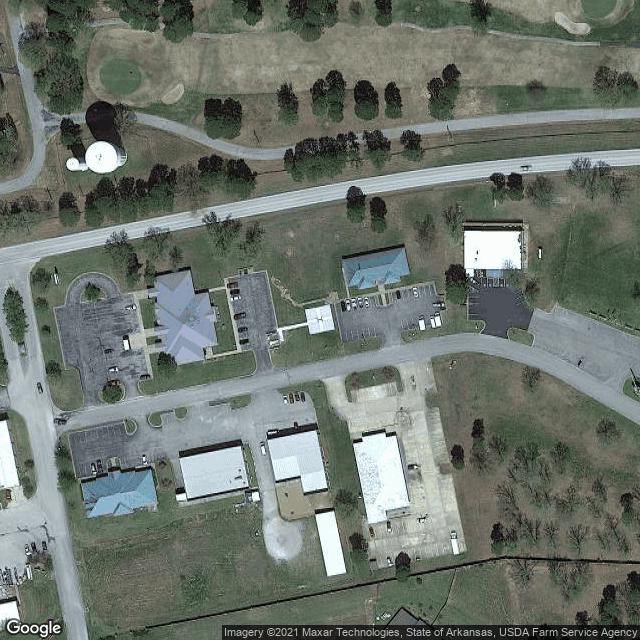Helipad: (300, 303, 338, 336)
